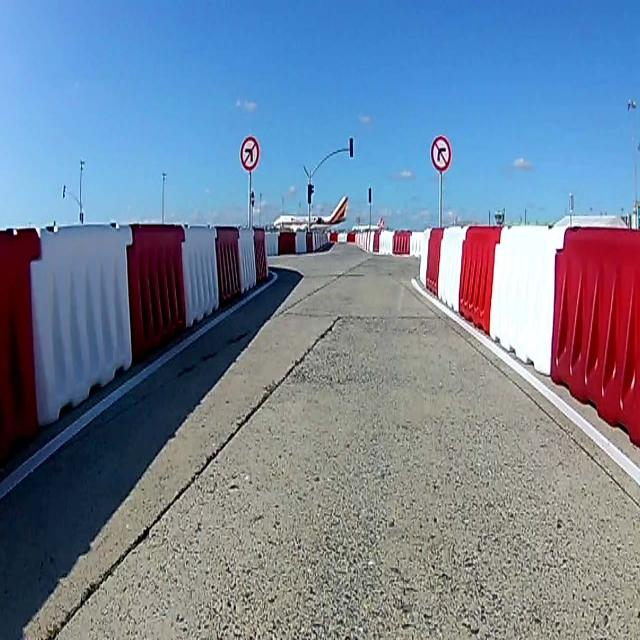sagadonulmez: (430, 135, 450, 173)
soladonulmez: (241, 135, 259, 173)
